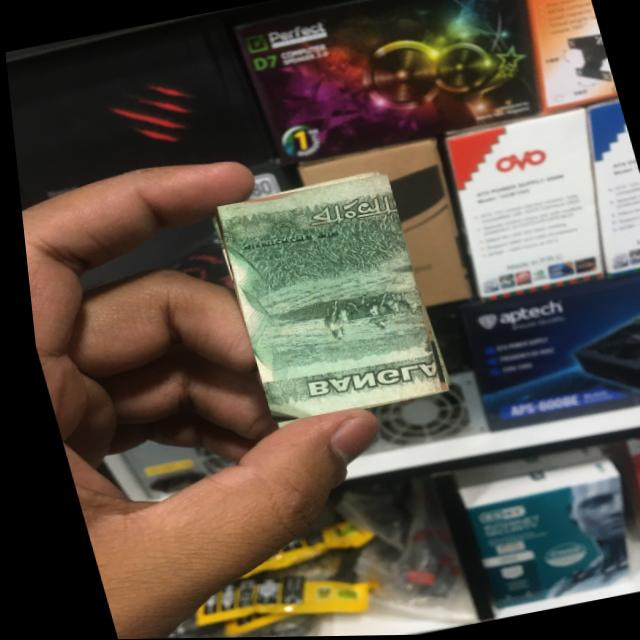Taka: (205, 174, 441, 425)
